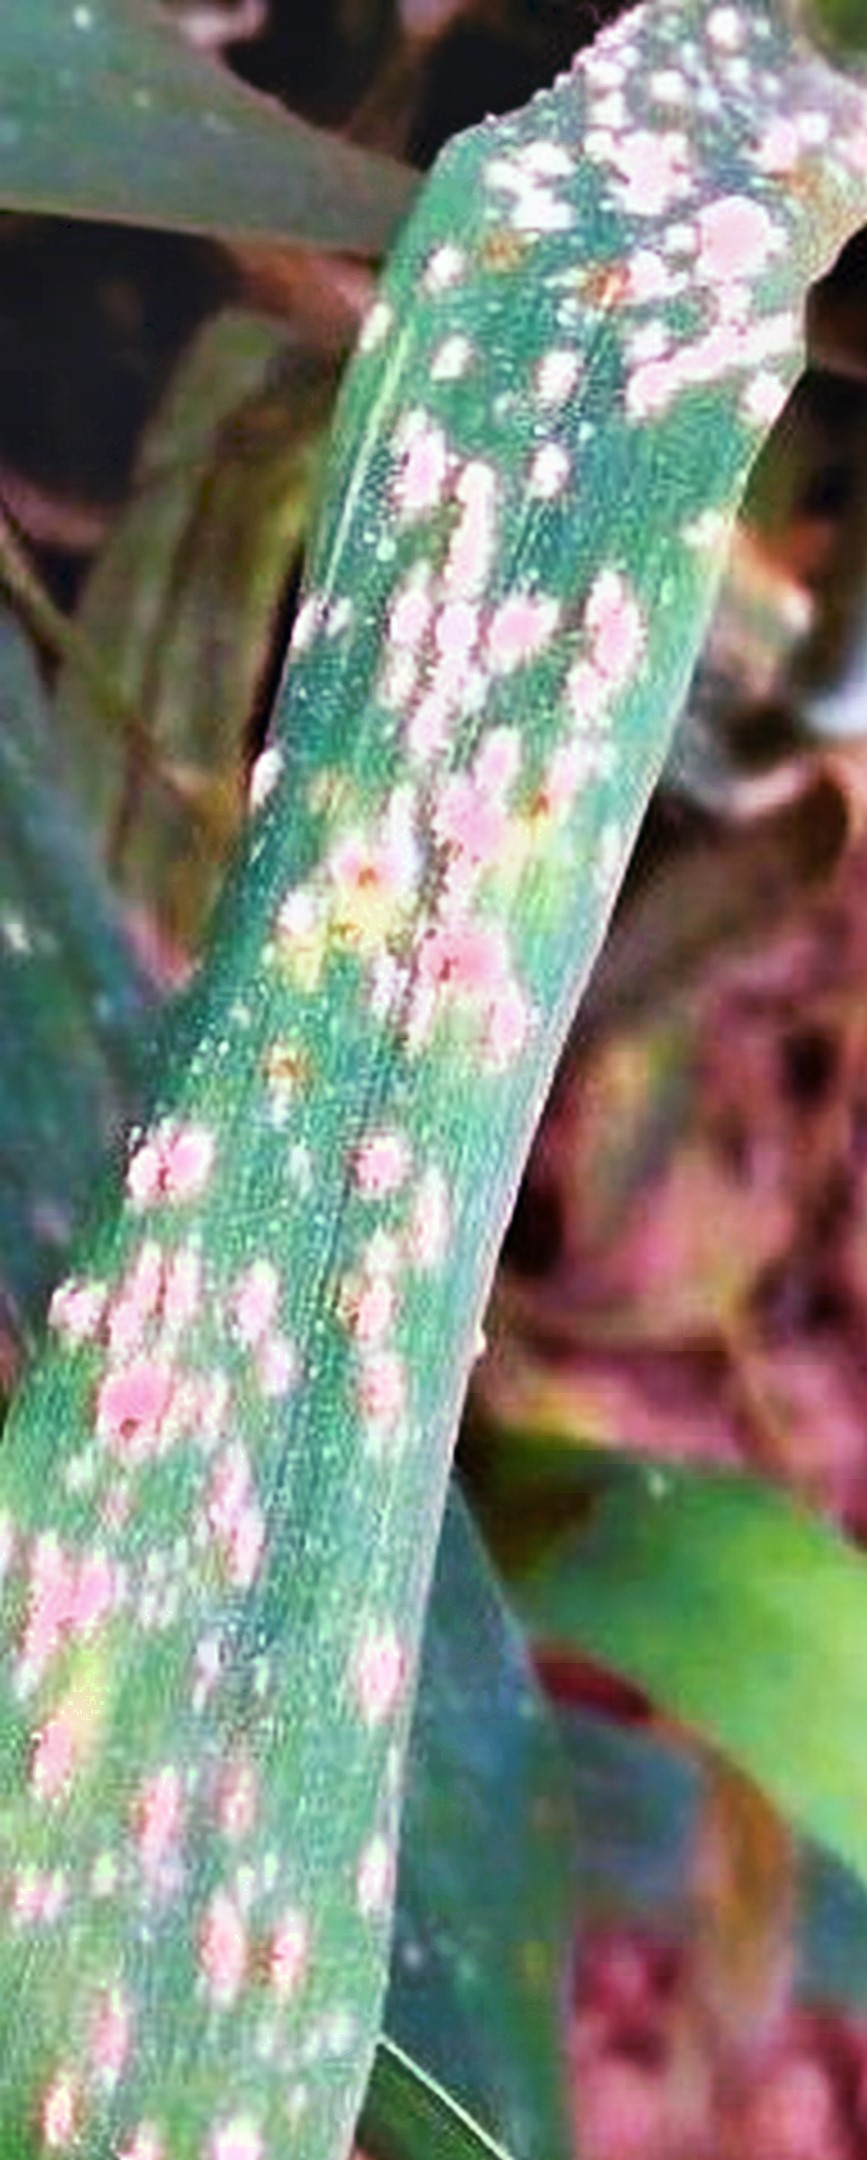Powdery Mildew: (44, 98, 817, 1896)
